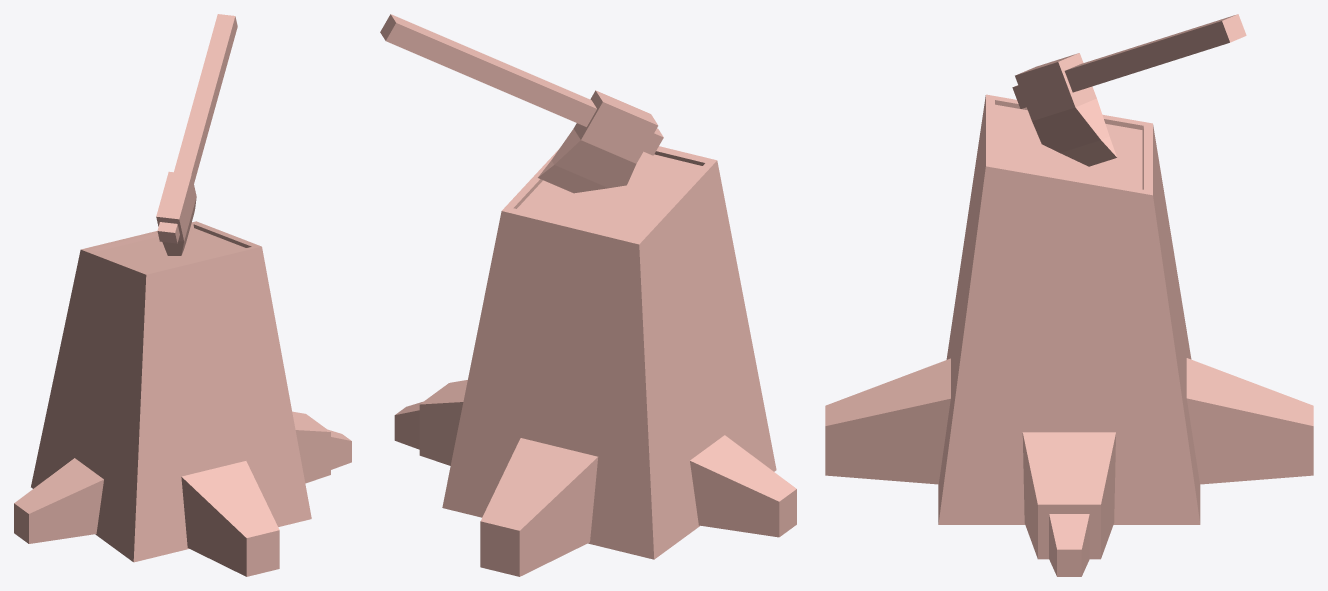
The model's file is Mega_Asset_s_Pack_Cube_320.FBX.
3 renders of one model, left to right at view 1: azimuth 30°, elevation 25°; view 2: azimuth 150°, elevation 25°; view 3: azimuth 270°, elevation 25°, orthographic. The views are drawn at different scales.
Visible parts, largest first — view 1: Mega_Asset_s_Pack_Cube_320; view 2: Mega_Asset_s_Pack_Cube_320; view 3: Mega_Asset_s_Pack_Cube_320.
Part boxes in pixels (box(x1,y1,x2,y2)): Mega_Asset_s_Pack_Cube_320: box(14, 14, 351, 576); Mega_Asset_s_Pack_Cube_320: box(380, 14, 796, 576); Mega_Asset_s_Pack_Cube_320: box(825, 14, 1313, 576).
Size of what is drawn, in the model's own units: 137 by 140 by 166.
